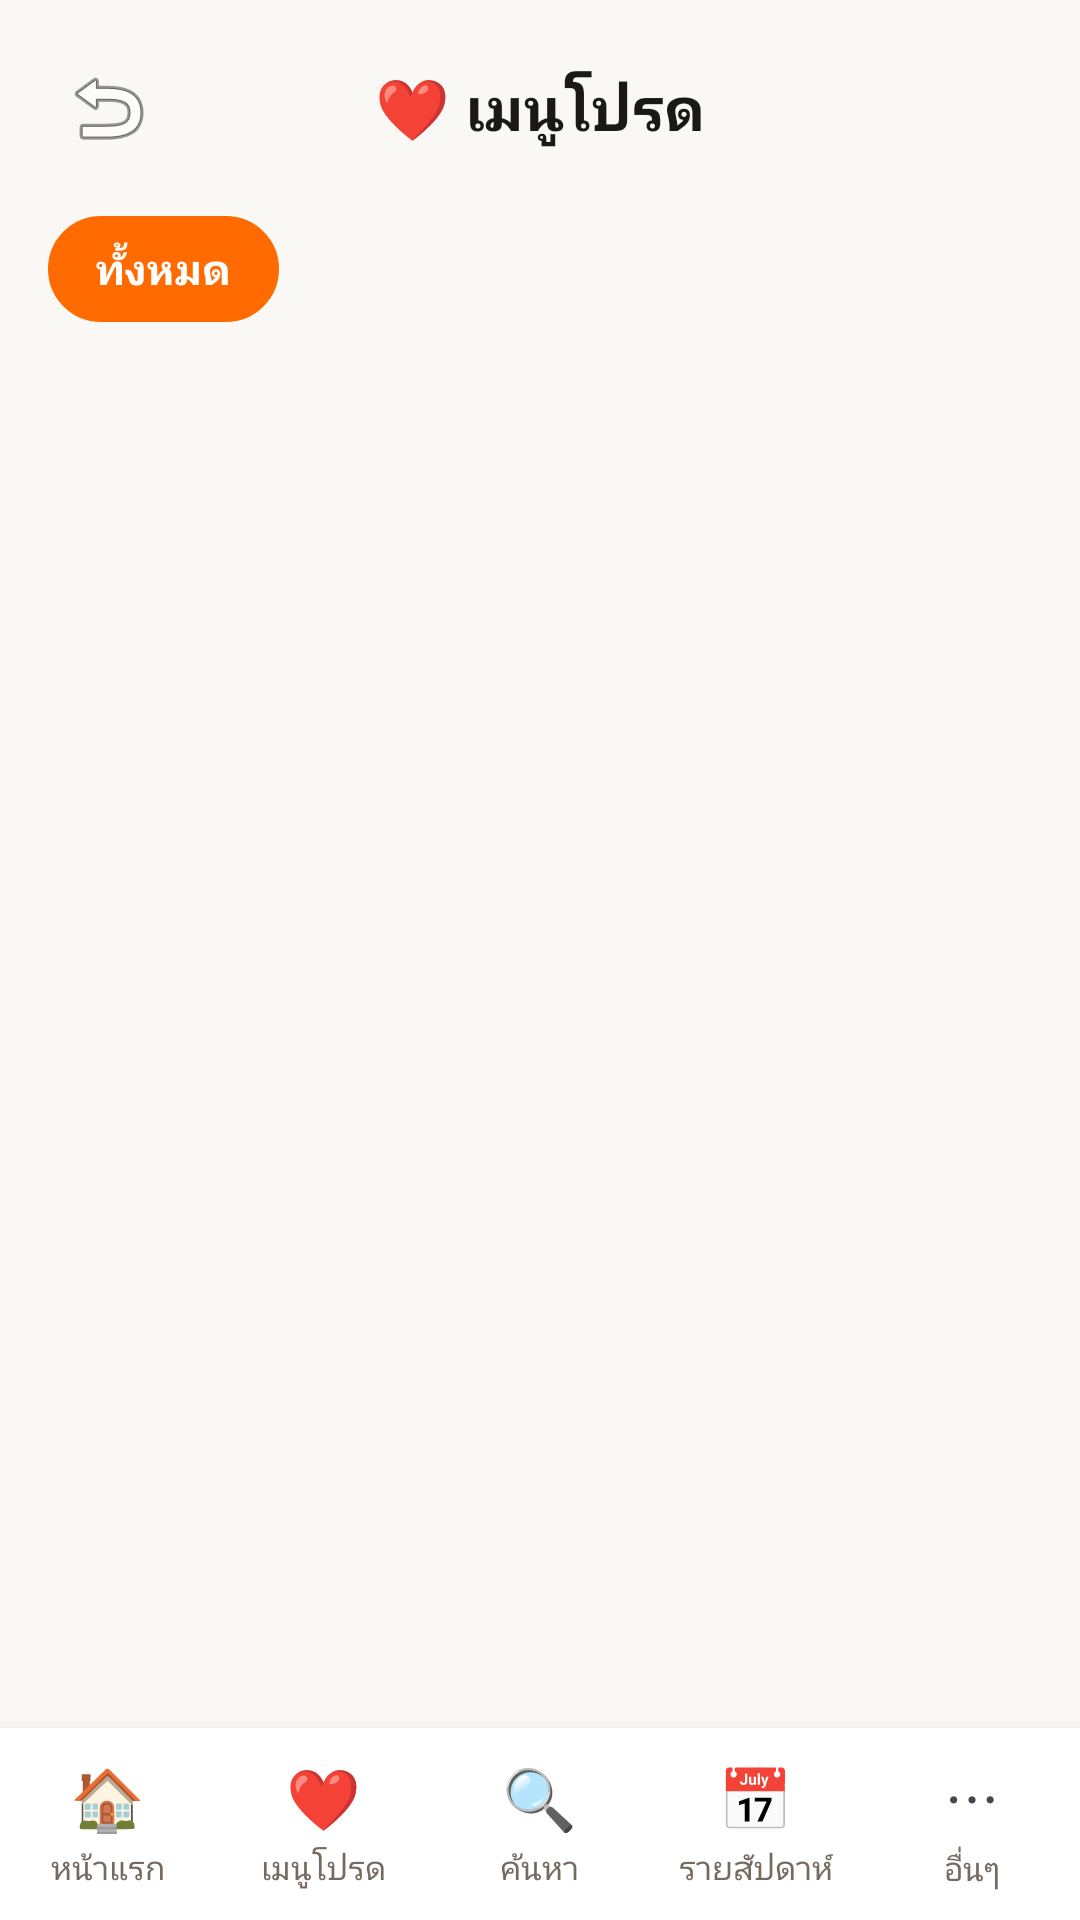

Named icons in this screenshot (1080w x 1920h) and their centers, point (x, y):
Back: point (109, 108)
